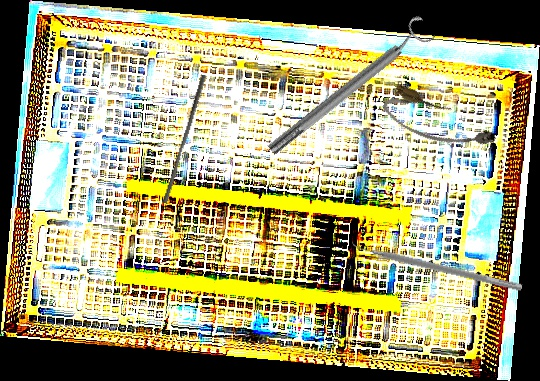Cannula: (377, 81, 501, 165)
Fixation Ring: (260, 12, 438, 163)
Pusher: (161, 72, 207, 206)
Spatula Surgical: (349, 236, 525, 292)
